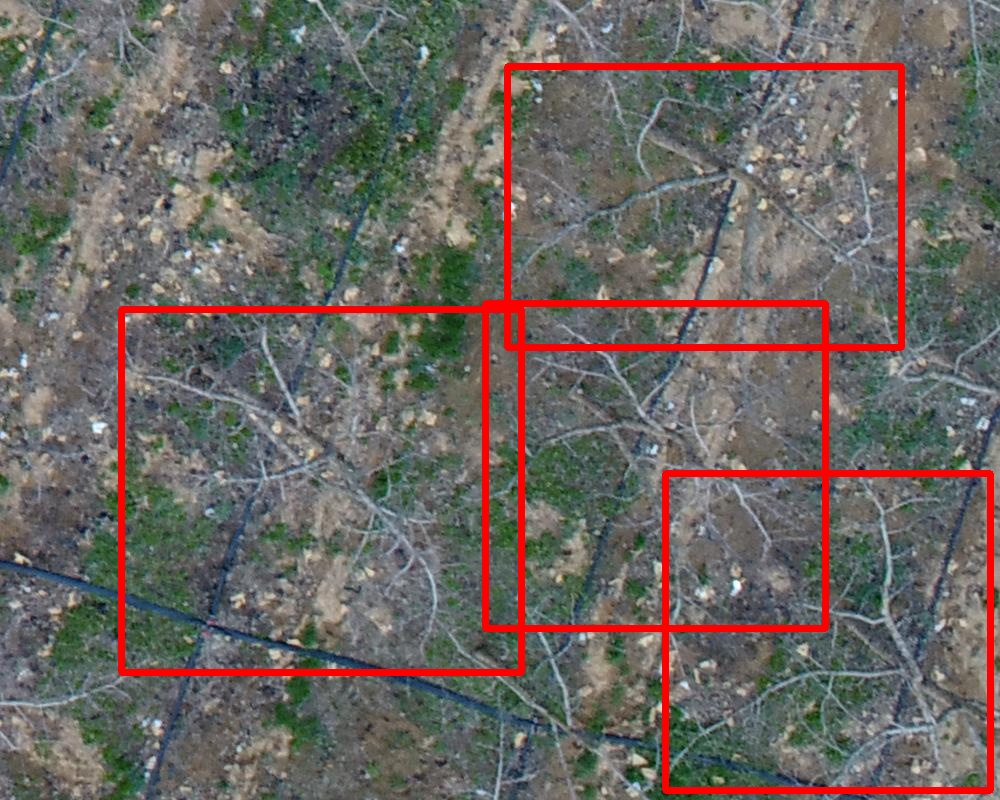apple: (121, 309, 521, 672), (507, 66, 901, 347), (485, 303, 825, 628), (665, 473, 990, 790)
